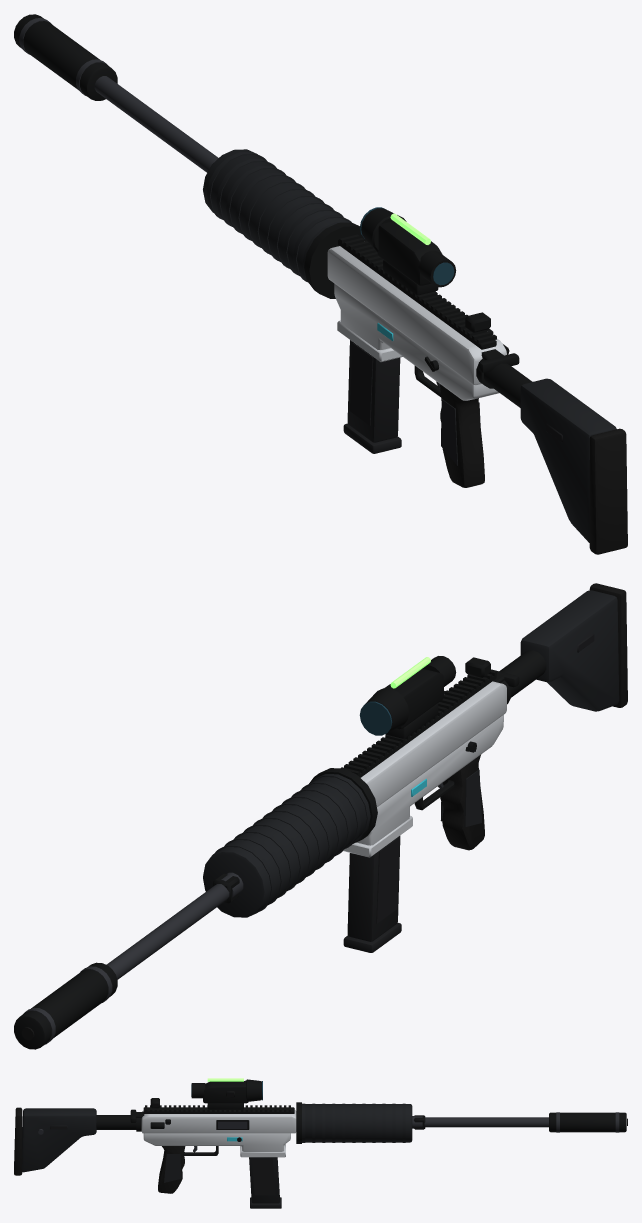
File: gun_31.glb
3 renders of one model, top to bottom at view 1: azimuth 30°, elevation 25°; view 2: azimuth 150°, elevation 25°; view 3: azimuth 270°, elevation 25°, orthographic. The views are drawn at different scales.
Visible parts, largest first — view 1: gun_31; view 2: gun_31; view 3: gun_31.
Boxes of the visible parts, <box> form: gun_31: <box>14,14,627,554</box>; gun_31: <box>14,583,627,1049</box>; gun_31: <box>14,1078,627,1208</box>.
Size of the model in its own units: 0.0912 by 0.3075 by 1.35.
